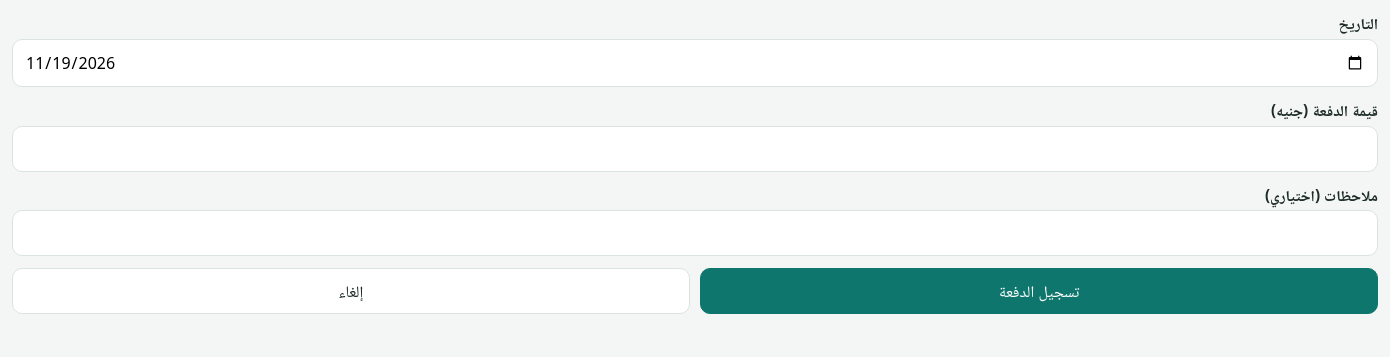
Test: PaymentForm › requires an amount greater than zero
The width and height of the screenshot is (1390, 357).
What coordinates should you click on to do the following:
click the button "تسجيل الدفعة"
I would click on:
 (1039, 291)
Its box is [700,268,1378,314].
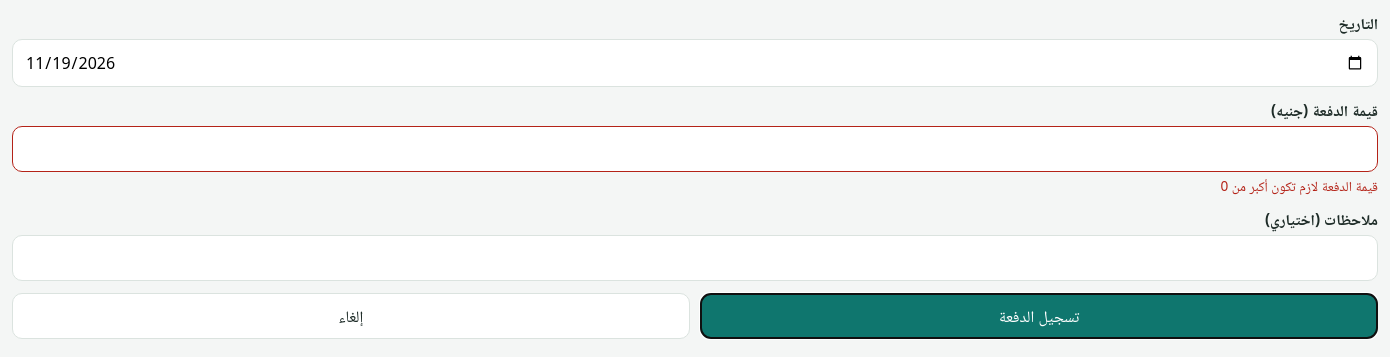
Check: the text "قيمة الدفعة لازم تكون أكبر من 0" is shown, box [1220,176,1378,195]
